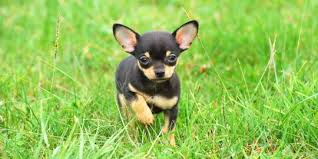Bulldog: (96, 10, 203, 154)
